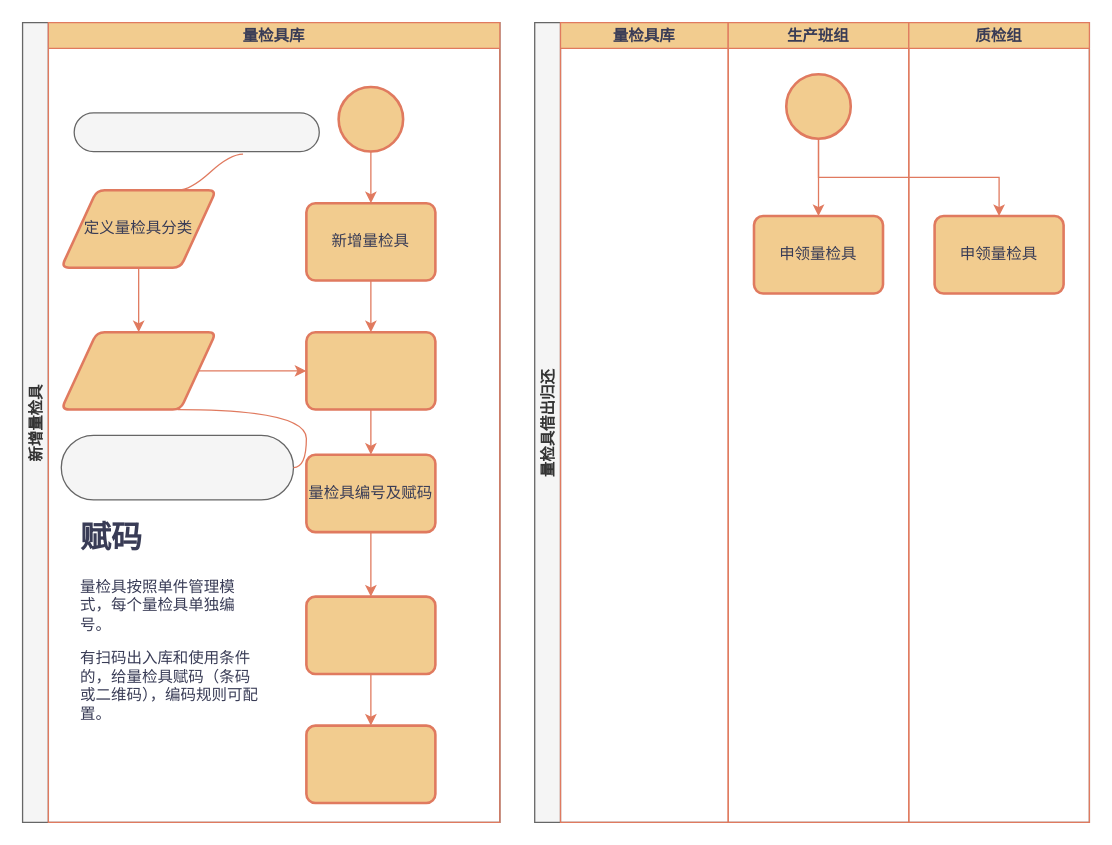
The diagram is 1112 pixels wide and 845 high, and some of its shapes have lost their labels. The centre of each missing label's shape, as x and y in pixels:
"千分尺、塞规、数显卡尺..." belongs at (x=196, y=132).
"定义量检具规格" belongs at (x=138, y=370).
"新增量检具扫码入库" belongs at (x=370, y=635).
"新建量检具库存台账" belongs at (x=370, y=764).
"确定量检具分类和规格" belongs at (x=370, y=370).
"编码、名称、规格型号、 测量范围、定检周期..." belongs at (x=176, y=467).
